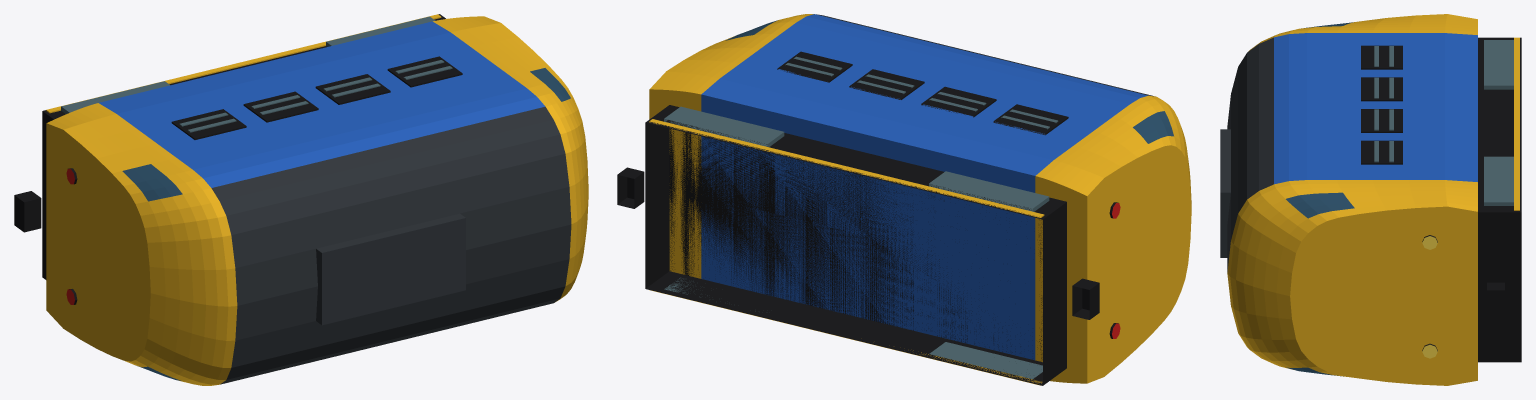
The picture shows the model from 3 angles, left to right: view 1: azimuth 30°, elevation 25°; view 2: azimuth 150°, elevation 25°; view 3: azimuth 270°, elevation 25°; orthographic projection. The views are drawn at different scales.
Parts seen in each view (by area): view 1: default_body, default_roof_pod, default_skirt, default_side1_-3.40_0.75_hazard_yellow, default_side1_1.40_2.70_black, default_side1_-1.10_2.70_black, default_side1_-2.35_2.70_black, default_side1_0.15_2.70_black, default_coupler-1, default_pod-11, default_pod11; view 2: default_body, default_skirt, default_pod-11, default_pod11, default_side1_-3.40_0.75_hazard_yellow, default_pod-1-1, default_side1_0.15_2.70_black, default_side1_1.40_2.70_black, default_side1_-2.35_2.70_black, default_side1_-1.10_2.70_black, default_coupler-1, default_coupler1 (+1 smaller); view 3: default_body, default_skirt, default_pod11, default_pod-11, default_roof_pod, default_side1_-3.40_0.75_hazard_yellow, default_side1_-1.10_2.70_black, default_side1_1.40_2.70_black, default_side1_-2.35_2.70_black, default_side1_0.15_2.70_black, default_coupler1.
Part boxes in pixels (x1,y1,x2,y2): default_body: (46, 16, 588, 385); default_roof_pod: (316, 213, 465, 325); default_skirt: (42, 14, 445, 279); default_side1_-3.40_0.75_hazard_yellow: (46, 14, 441, 113); default_side1_1.40_2.70_black: (387, 56, 462, 87); default_side1_-1.10_2.70_black: (243, 91, 318, 122); default_side1_-2.35_2.70_black: (171, 109, 246, 139); default_side1_0.15_2.70_black: (315, 74, 390, 104); default_coupler-1: (14, 191, 41, 232); default_pod-11: (61, 81, 169, 114); default_pod11: (326, 16, 435, 46); default_body: (649, 14, 1191, 383); default_skirt: (645, 105, 1066, 385); default_pod-11: (929, 171, 1049, 211); default_pod11: (664, 106, 784, 147); default_side1_-3.40_0.75_hazard_yellow: (649, 119, 1044, 217); default_pod-1-1: (929, 342, 1042, 379); default_side1_0.15_2.70_black: (849, 69, 924, 99); default_side1_1.40_2.70_black: (777, 51, 852, 82); default_side1_-2.35_2.70_black: (993, 104, 1068, 135); default_side1_-1.10_2.70_black: (921, 86, 996, 117); default_coupler-1: (1072, 278, 1099, 319); default_coupler1: (617, 167, 644, 208); default_body: (1227, 14, 1477, 385); default_skirt: (1478, 37, 1521, 362); default_pod11: (1484, 156, 1513, 205); default_pod-11: (1484, 40, 1513, 89); default_roof_pod: (1220, 129, 1230, 257); default_side1_-3.40_0.75_hazard_yellow: (1514, 37, 1519, 210); default_side1_-1.10_2.70_black: (1361, 77, 1402, 101); default_side1_1.40_2.70_black: (1361, 140, 1402, 164); default_side1_-2.35_2.70_black: (1361, 45, 1402, 69); default_side1_0.15_2.70_black: (1361, 109, 1402, 132); default_coupler1: (1487, 282, 1504, 317).
Size of the model in its own units: 8.2 by 3.52 by 5.03.
